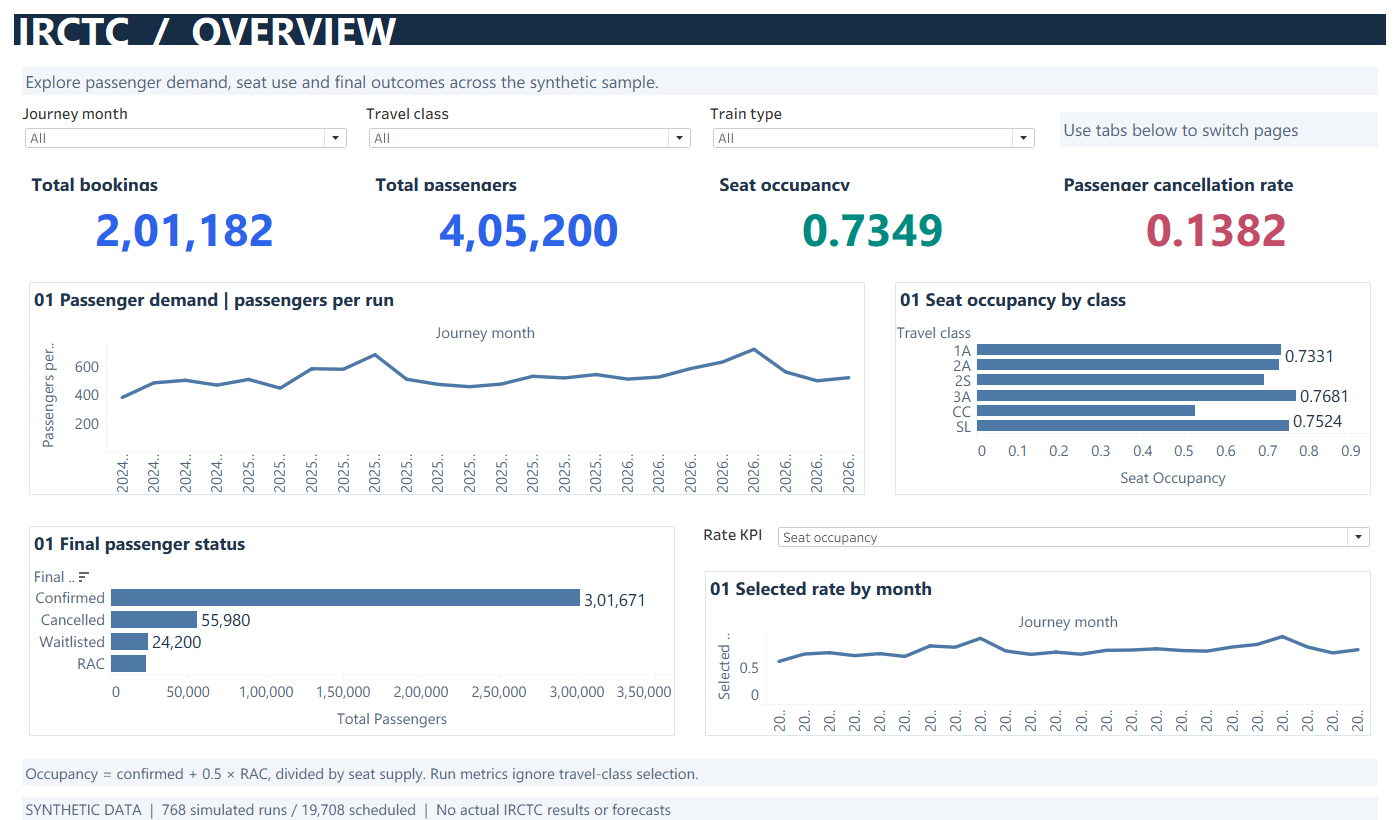

The page's visual inventory and layout, read from the dashboard file:
{"tool":"tableau","page":{"name":"01 Overview","canvas":[1400,820],"ordinal":0},"visuals":[{"type":"text","box":[0,0,1400,58]},{"type":"text","box":[22,66,1356,28]},{"type":"parameter","param":"[Parameters].[Journey month]","box":[22,102,328,53]},{"type":"parameter","param":"[Parameters].[Travel class]","box":[366,102,328,53]},{"type":"parameter","param":"[Parameters].[Train type]","box":[710,102,328,53]},{"type":"text","box":[1060,111,318,35]},{"type":"text","box":[22,168,327,27]},{"type":"text","box":[366,168,327,27]},{"type":"text","box":[710,168,327,27]},{"type":"text","box":[1054,168,327,27]},{"type":"worksheet","title":"01 KPI Total bookings","mark":"Text","box":[22,195,327,61]},{"type":"worksheet","title":"01 KPI Total passengers","mark":"Text","box":[366,195,327,61]},{"type":"worksheet","title":"01 KPI Seat occupancy","mark":"Text","box":[710,195,327,61]},{"type":"worksheet","title":"01 KPI Passenger cancellation rate","mark":"Text","box":[1054,195,327,61]},{"type":"worksheet","title":"01 Passenger demand | passengers per run","mark":"Line","rows":["Passengers per Run"],"cols":["Month"],"box":[22,272,850,225]},{"type":"worksheet","title":"01 Seat occupancy by class","mark":"Bar","rows":["TravelClass"],"cols":["Seat Occupancy"],"box":[888,272,490,225]},{"type":"worksheet","title":"01 Final passenger status","mark":"Bar","rows":["FinalStatus"],"cols":["Total Passengers"],"box":[22,513,660,222]},{"type":"parameter","param":"[Parameters].[Rate KPI]","box":[698,513,680,40]},{"type":"worksheet","title":"01 Selected rate by month","mark":"Line","rows":["Selected Rate KPI"],"cols":["Month"],"box":[698,558,680,177]},{"type":"text","box":[22,751,1356,27]},{"type":"text","box":[22,788,1356,23]}]}

Visuals, with their boxes in screenshot pixels (x1, y1, x2, y2), scaled from the page's 1400x820 canvas onto the 1400x820 screenshot:
text: (0,0,1399,58)
text: (22,66,1378,94)
parameter: (22,102,350,155)
parameter: (366,102,694,155)
parameter: (710,102,1038,155)
text: (1060,111,1378,146)
text: (22,168,349,195)
text: (366,168,693,195)
text: (710,168,1037,195)
text: (1054,168,1381,195)
"01 KPI Total bookings" worksheet (Text marks): (22,195,349,256)
"01 KPI Total passengers" worksheet (Text marks): (366,195,693,256)
"01 KPI Seat occupancy" worksheet (Text marks): (710,195,1037,256)
"01 KPI Passenger cancellation rate" worksheet (Text marks): (1054,195,1381,256)
"01 Passenger demand | passengers per run" worksheet (Line marks): (22,272,872,497)
"01 Seat occupancy by class" worksheet (Bar marks): (888,272,1378,497)
"01 Final passenger status" worksheet (Bar marks): (22,513,682,735)
parameter: (698,513,1378,553)
"01 Selected rate by month" worksheet (Line marks): (698,558,1378,735)
text: (22,751,1378,778)
text: (22,788,1378,811)
